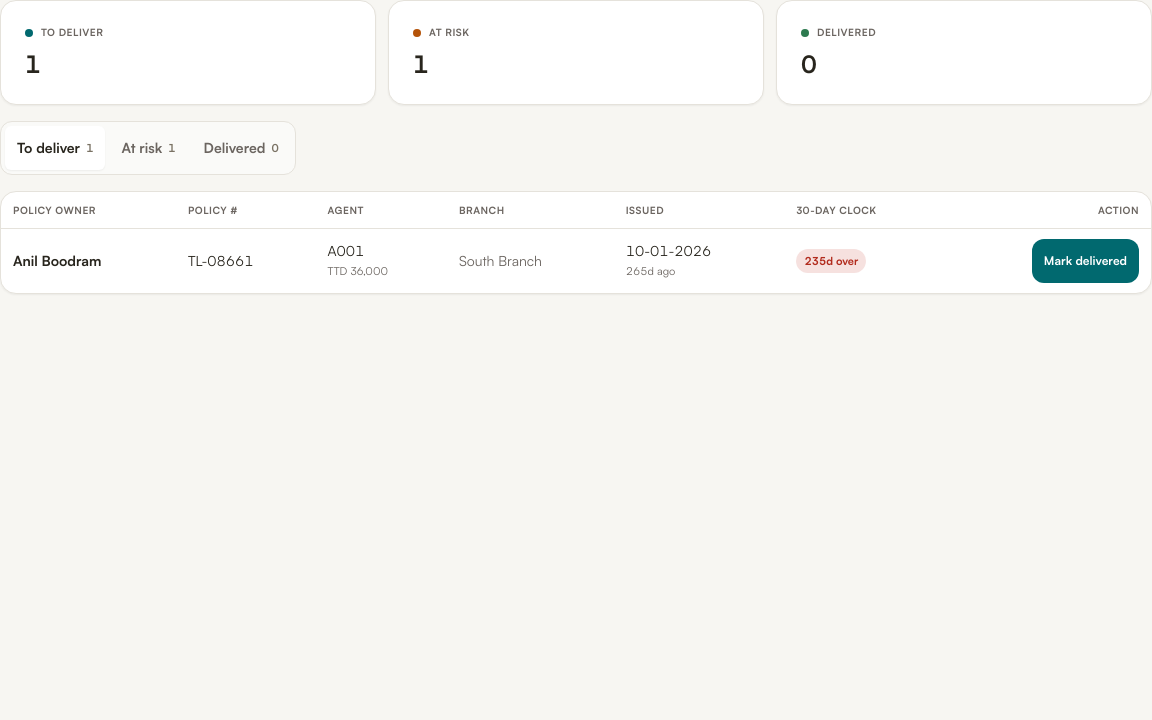
Test: DeliveryRegisterPanel — mark delivered › records delivery with deliveredBy + today, then flips the row to delivered
Click the button with test id "mark-delivered-btn". click: [1085, 261]
box: [1032,239,1139,283]
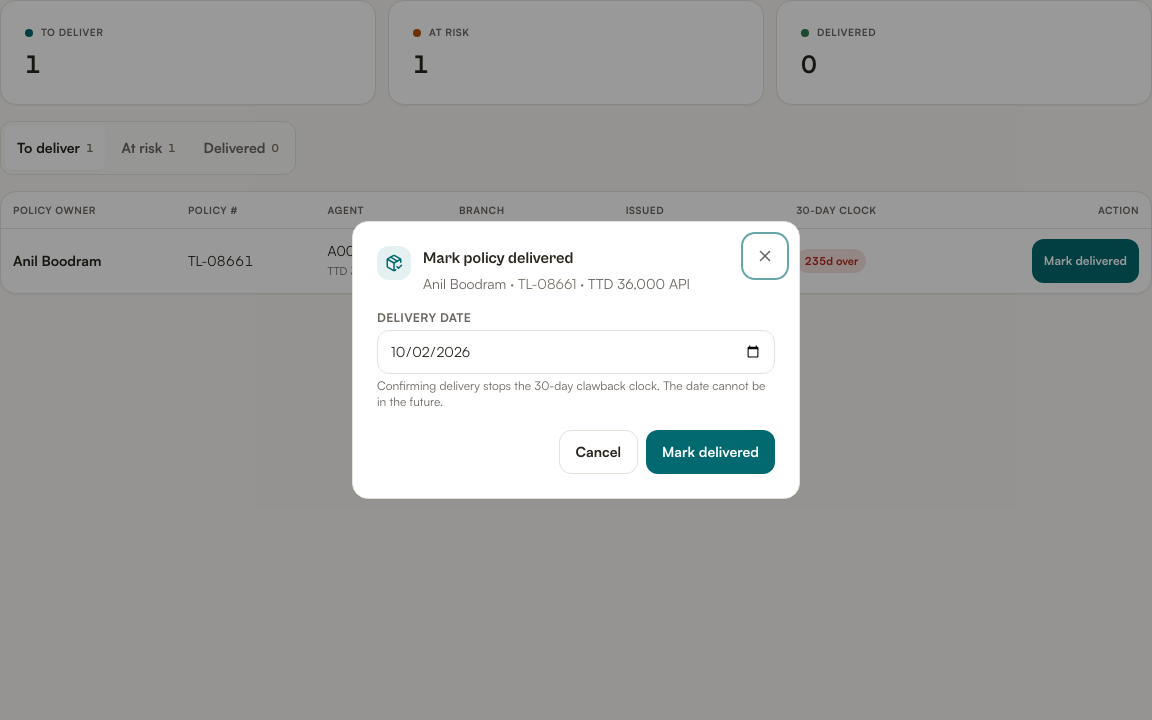
Now the dialog with test id "mark-delivered-dialog" is shown, box [352,221,800,499]
Click the button with test id "mark-delivered-confirm". click: [710, 452]
box: [646,430,775,474]
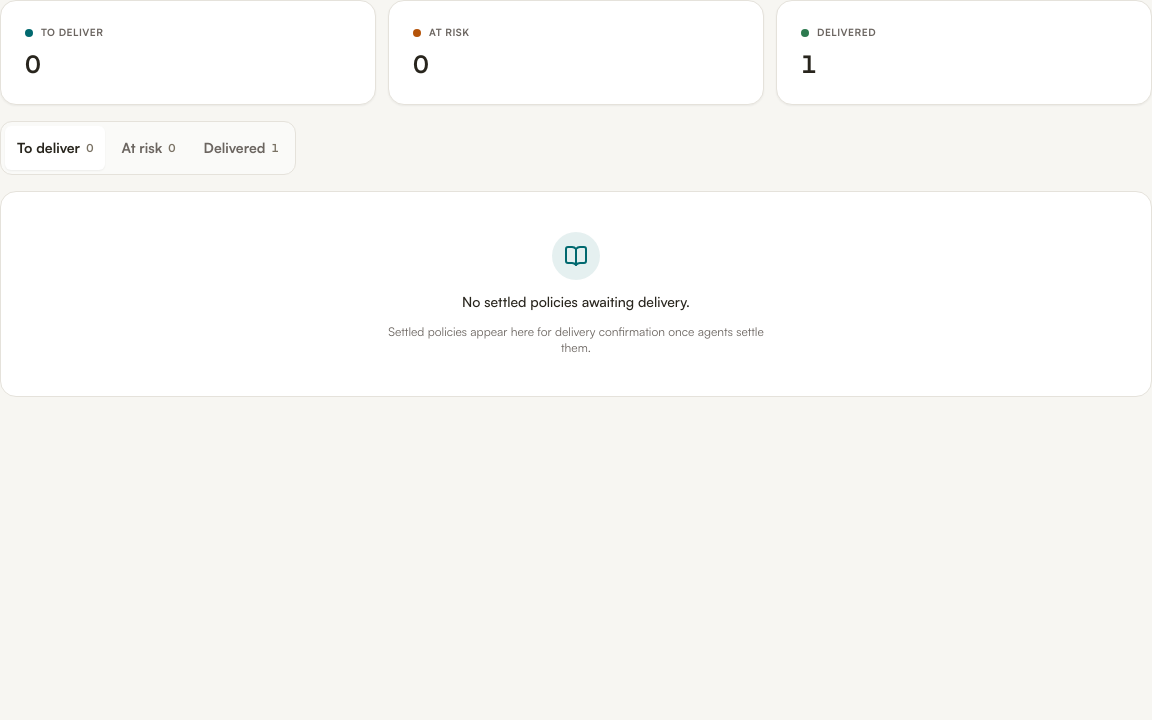
Now the element with test id "delivery-register-empty" is shown, box [0,191,1151,397]
